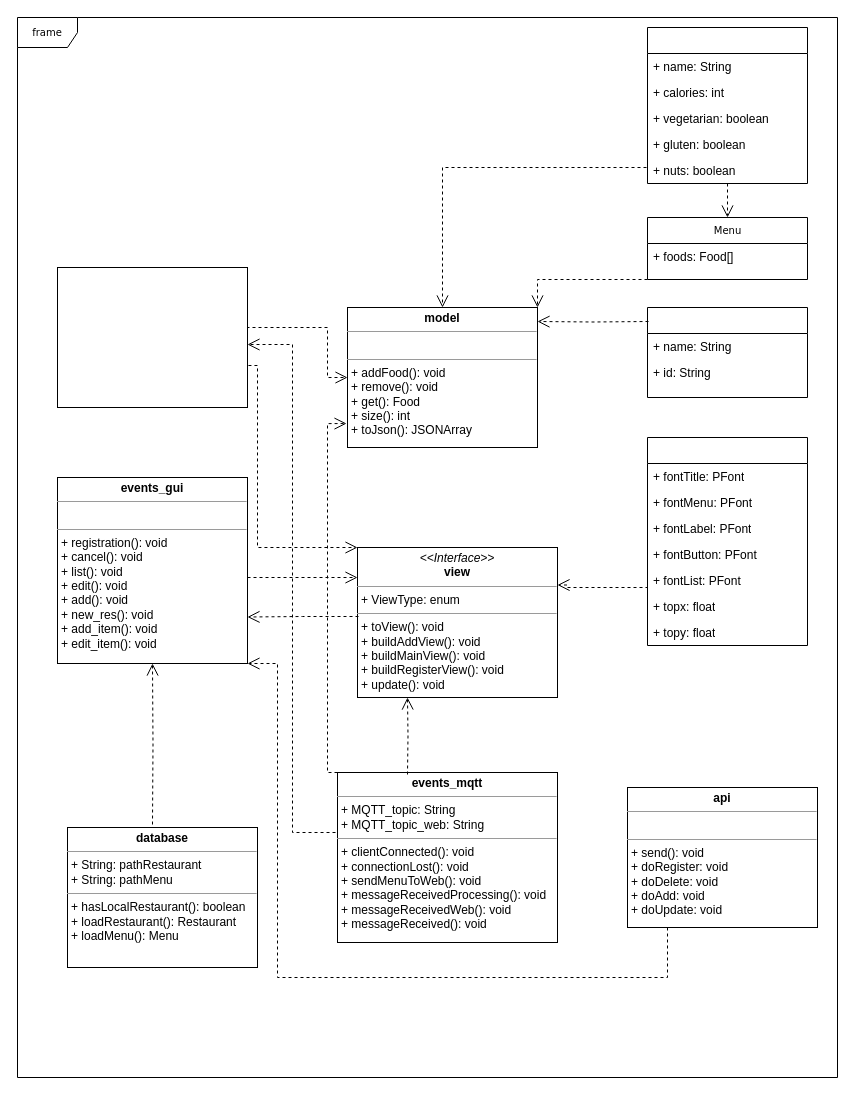
Some shapes in this 855 by 1095 pixel diagram are drawn without their labels. The box of each missing label's shape, as (x1, y1, x2, y2) in pixels:
dashboard + Menu: menu + View: view + setup(): void + draw(): void: (56, 266, 248, 408)
Food: (646, 26, 808, 184)
Restaurant: (646, 306, 808, 398)
View: (646, 436, 808, 646)
